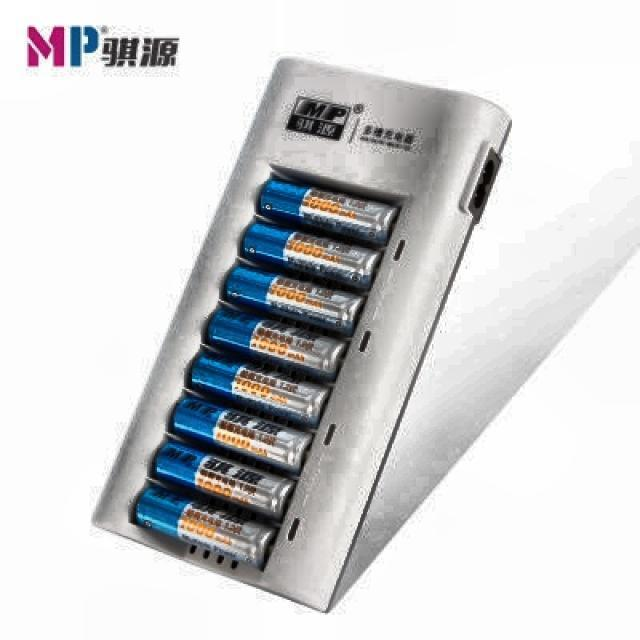battery: (135, 486, 274, 567), (154, 441, 293, 519), (191, 351, 329, 426), (176, 396, 309, 473), (208, 308, 344, 381), (226, 265, 362, 334), (242, 221, 378, 288), (259, 179, 398, 244)
